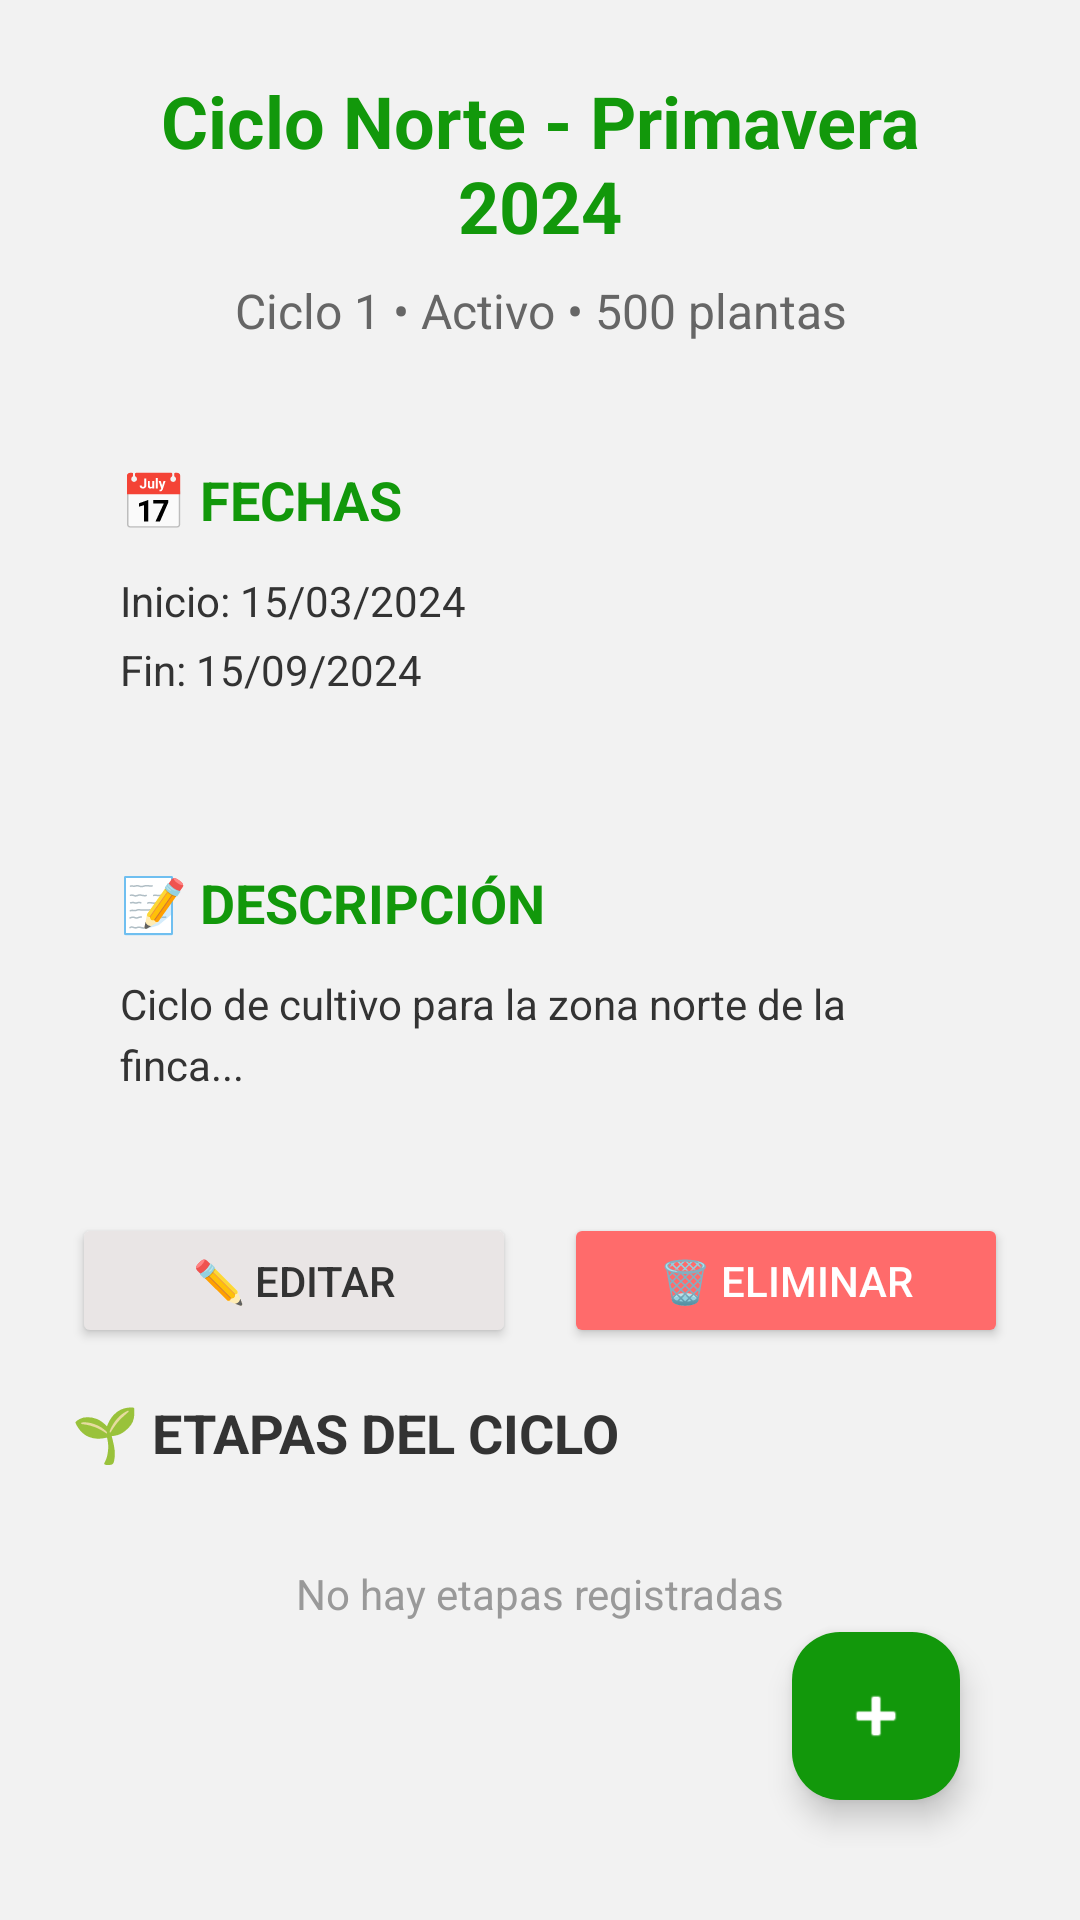

Where to tap for icons on this 1080×1920 app screen, as point (x, y):
add: point (876, 1716)
